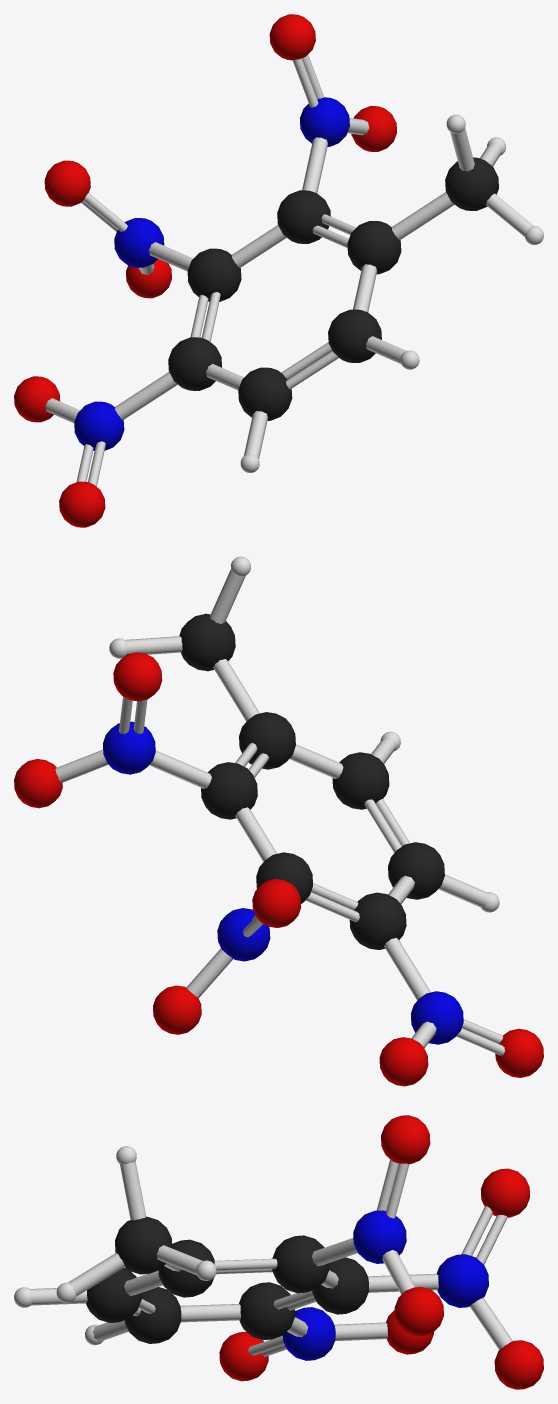
The model's file is Trinitrotoluene.fbx.
The picture shows the model from 3 angles, top to bottom: view 1: azimuth 30°, elevation 25°; view 2: azimuth 150°, elevation 25°; view 3: azimuth 270°, elevation 25°; orthographic projection. The views are drawn at different scales.
Parts seen in each view (by area): view 1: Group5, Group7, Group9, Group4, Group8, Group6, Group10, Group1, Group11, Group14, Group2, Group12 (+13 smaller); view 2: Group6, Group8, Group4, Group10, Group9, Group7, Group11, Group1, Group14, Group3, Group15, Group12 (+14 smaller); view 3: Group4, Group10, Group6, Group14, Group11, Group5, Group9, Group8, Group13, Group12, Group16, Group1 (+24 smaller).
Part boxes in pixels (x1,y1,x2,y2): Group5: (187, 248, 241, 301); Group7: (347, 221, 401, 274); Group9: (238, 367, 292, 420); Group4: (168, 337, 222, 390); Group8: (328, 309, 381, 362); Group6: (277, 190, 330, 243); Group10: (445, 157, 498, 210); Group1: (74, 401, 124, 450); Group11: (299, 97, 349, 146); Group14: (114, 218, 164, 267); Group2: (59, 481, 105, 527); Group12: (269, 14, 315, 60); Group6: (201, 762, 257, 819); Group8: (332, 752, 389, 809); Group4: (349, 892, 406, 949); Group10: (179, 613, 235, 671); Group9: (388, 842, 444, 899); Group7: (239, 712, 295, 769); Group11: (103, 721, 155, 774); Group1: (410, 991, 463, 1044); Group14: (217, 908, 270, 961); Group3: (379, 1037, 428, 1086); Group15: (252, 879, 301, 927); Group12: (113, 652, 162, 701); Group4: (239, 1282, 295, 1340); Group10: (115, 1216, 172, 1274); Group6: (272, 1235, 329, 1293); Group14: (437, 1254, 488, 1307); Group11: (353, 1210, 406, 1263); Group5: (312, 1257, 368, 1314); Group9: (124, 1287, 181, 1343); Group8: (86, 1267, 141, 1322); Group13: (394, 1287, 443, 1336); Group12: (381, 1115, 430, 1164); Group16: (494, 1340, 543, 1389); Group1: (282, 1307, 335, 1360).
Size of the model in its own units: 493 by 427 by 498.
